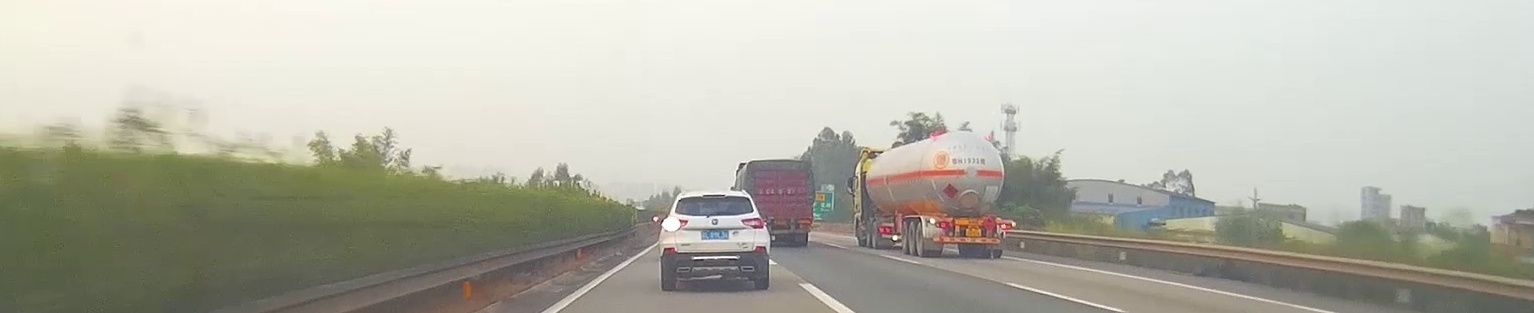L_light: (662, 217, 688, 231), (935, 222, 950, 228)
R_light: (741, 217, 764, 230), (997, 223, 1011, 229)
T_light: (703, 195, 725, 198), (968, 217, 979, 222)
day-brake: (921, 217, 1016, 258)
day-left: (660, 189, 770, 291)
